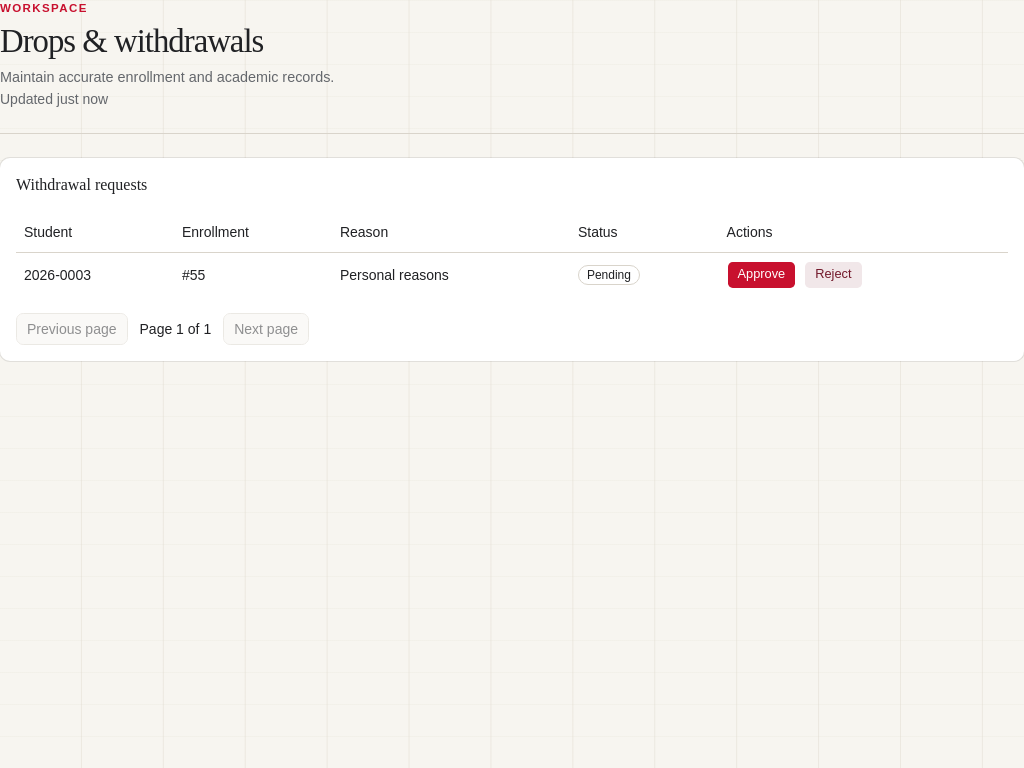
Test: RegistrarRecordsWorkspace › requires a reason before confirming a withdrawal rejection, with a visible message
Click the button "Reject": click(833, 275) [804,261,862,289]
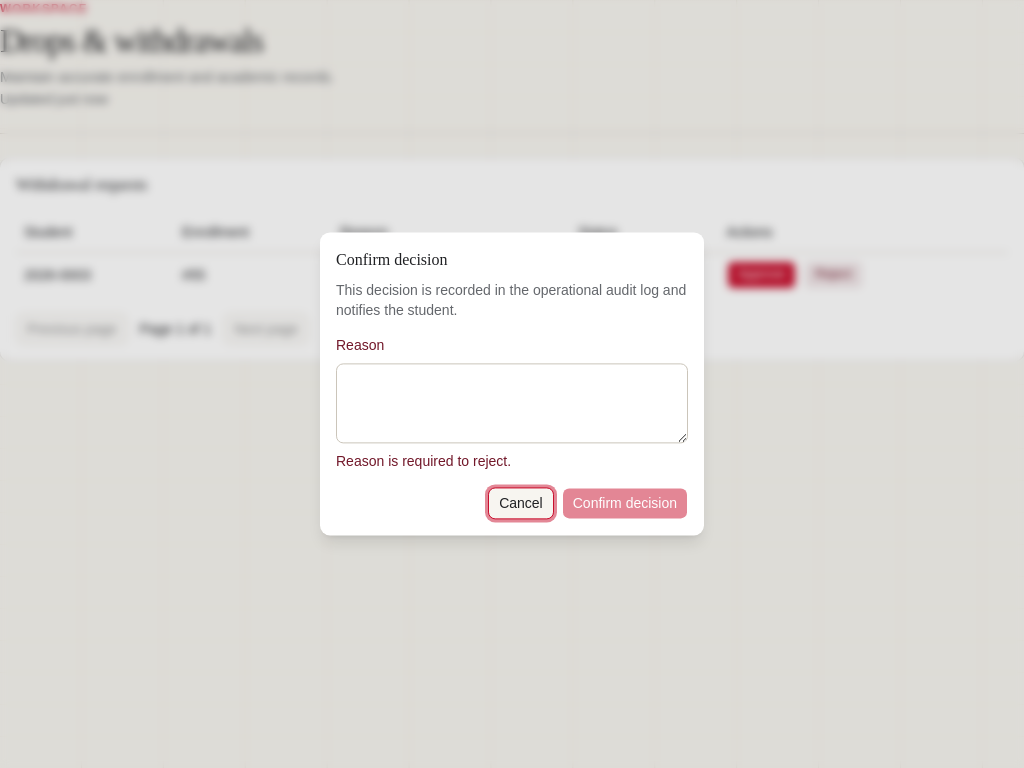
Expected: the button "Confirm decision" is disabled, [562,488,688,520]
Expected: the text "Reason is required to reject." is shown, [336,454,511,470]
In the text box labelled "Reason": (512, 404) [336,364,688,444], type "Not eligible"
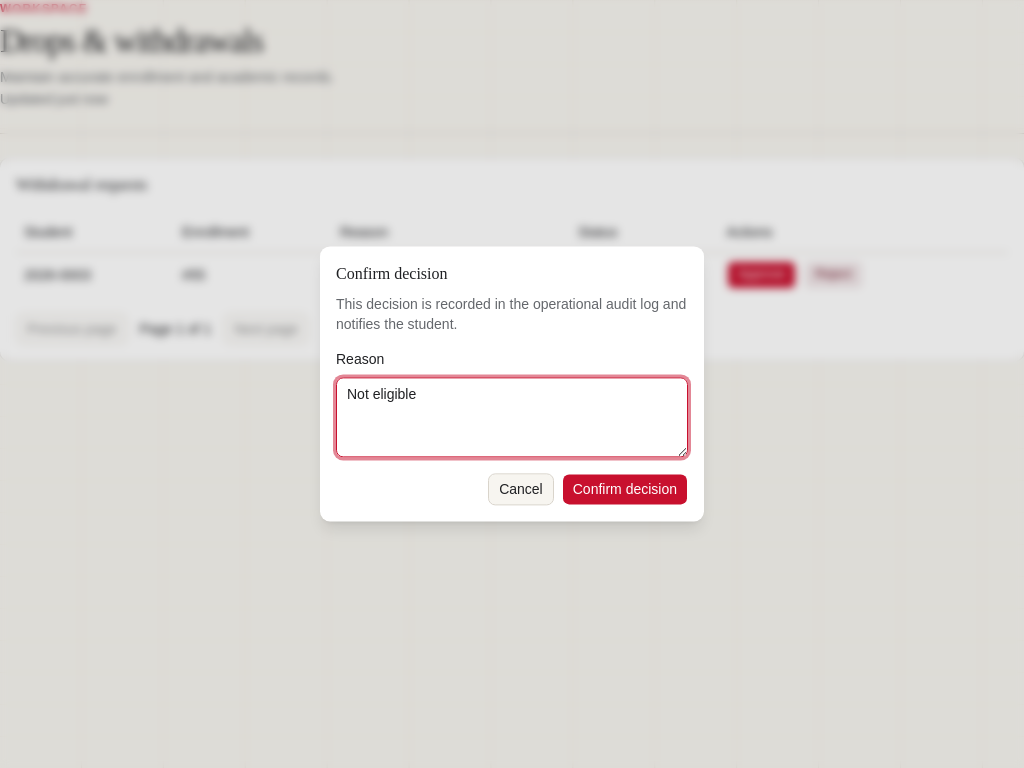
Expected: the button "Confirm decision" is enabled, [562,474,688,506]
